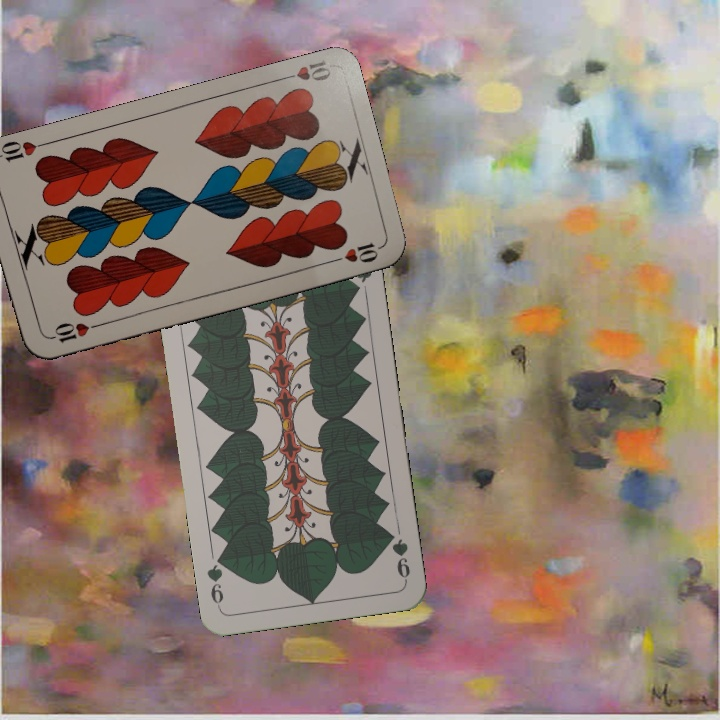G9: (383, 527, 413, 584)
H10: (275, 56, 334, 84), (44, 318, 103, 345)
